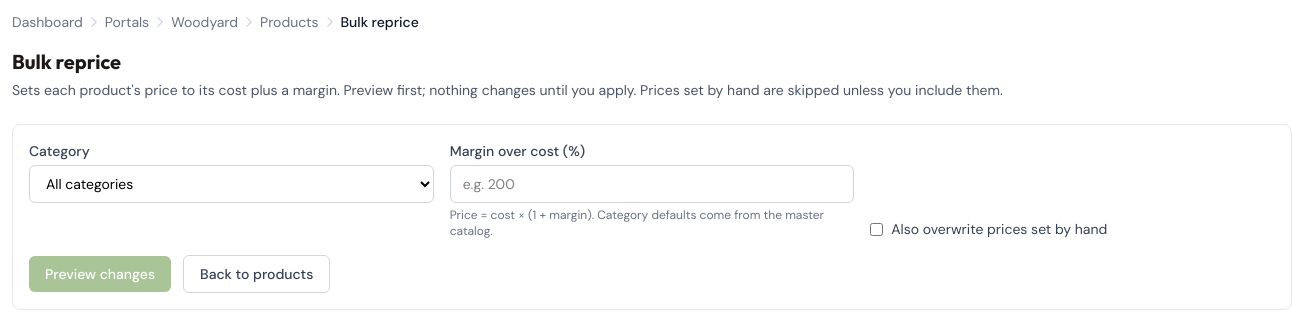
Test case: ProductRepricePage › prefills the category default margin when a category is chosen
Expected: the heading "Bulk reprice" is shown, left=12, top=49, right=121, bottom=74
Select "apparel (default 200%)" in the dropdown. click: [231, 184]
box: left=29, top=165, right=434, bottom=203
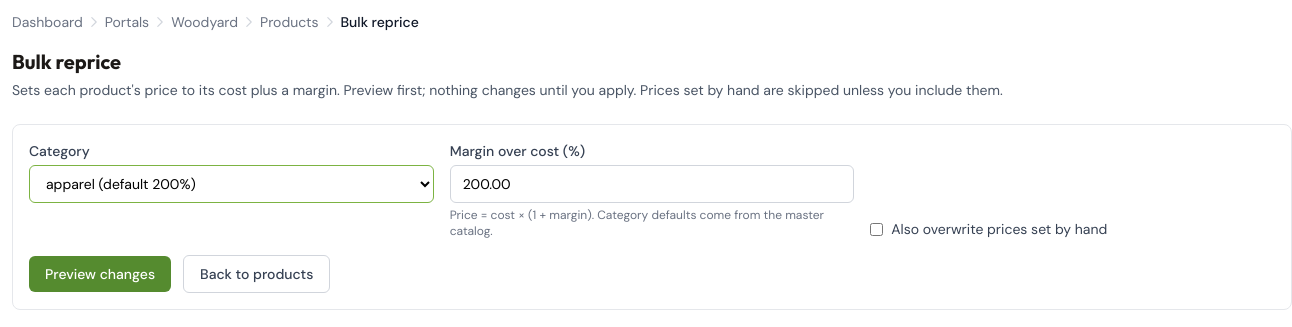
Expected: the number field labelled "Margin over cost (%)" holds "200", left=450, top=165, right=854, bottom=203
